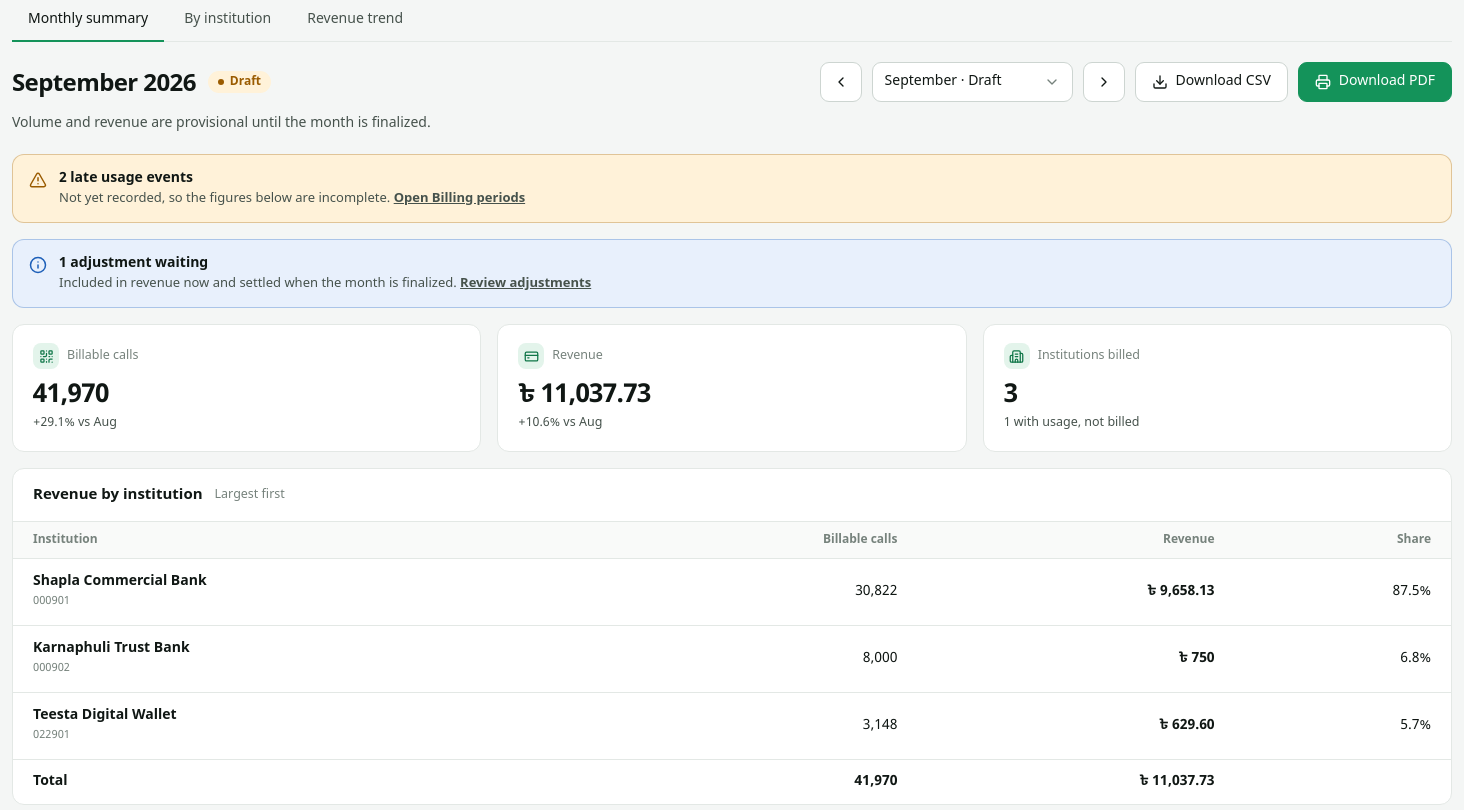
it: reports page › switches month and shows a finalized one as the billing record
Expected: the heading "September 2026" is shown, x1=12 y1=66 x2=196 y2=98
Select "April · Finalized" in the dropdown named "Billing period": [972, 82] box x1=872 y1=62 x2=1073 y2=102
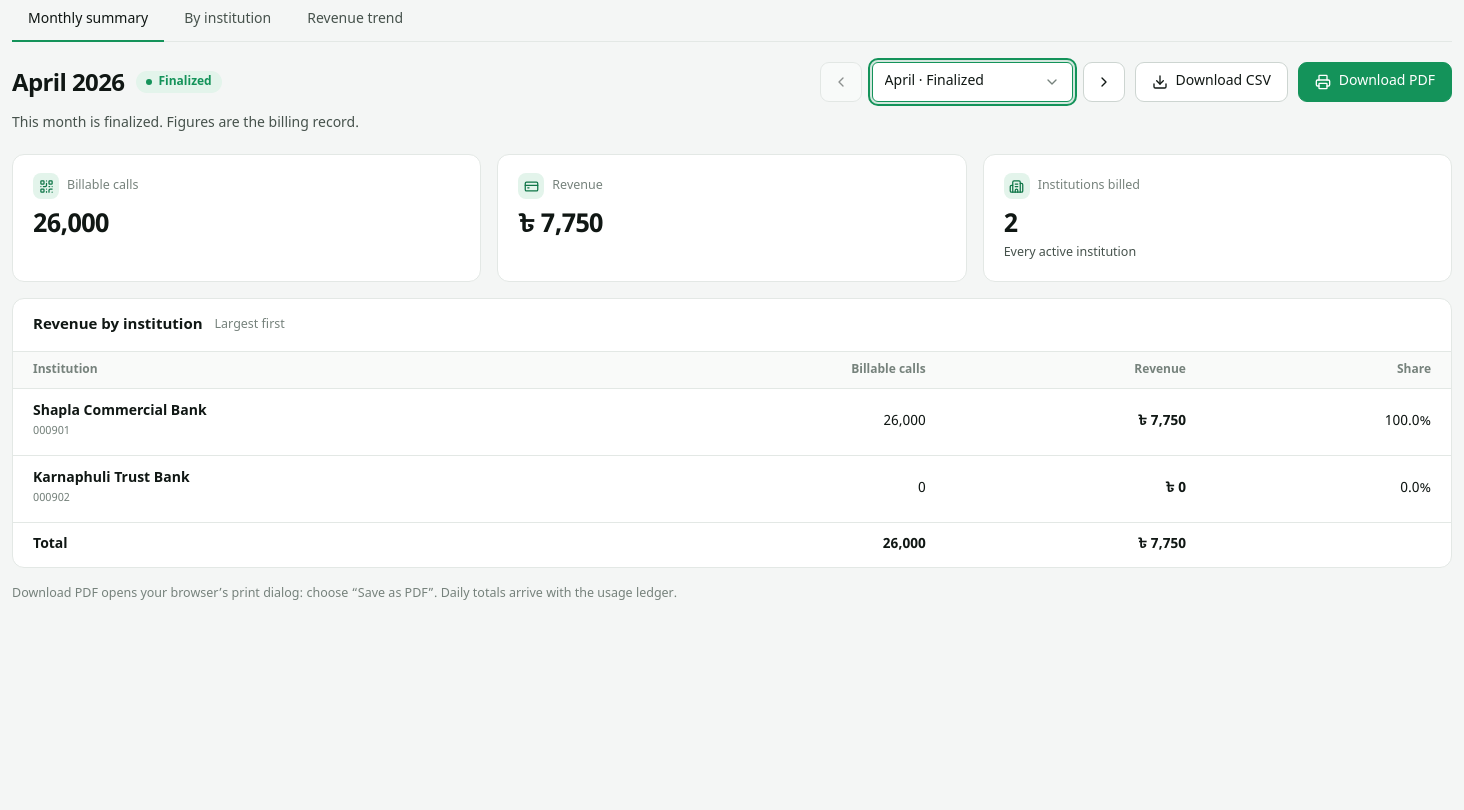
Expected: the heading "April 2026" is shown, x1=12 y1=66 x2=124 y2=98
Expected: the text "This month is finalized. Figures are the billing record." is shown, x1=12 y1=114 x2=359 y2=133
Expected: the text "vs " is gone
